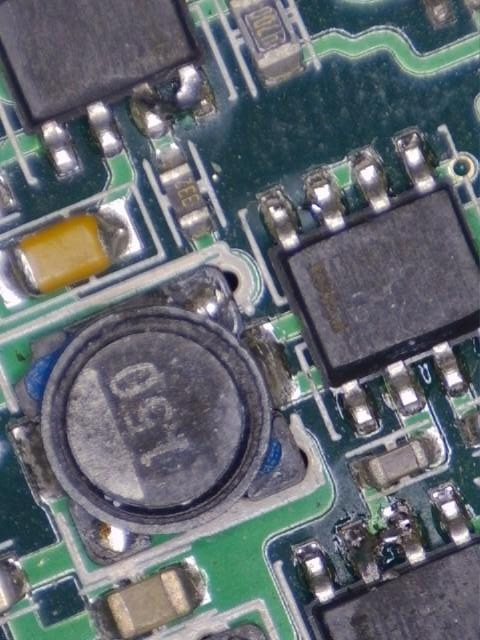pcb_defect: (255, 171, 348, 253), (342, 501, 426, 584), (131, 64, 215, 139)
